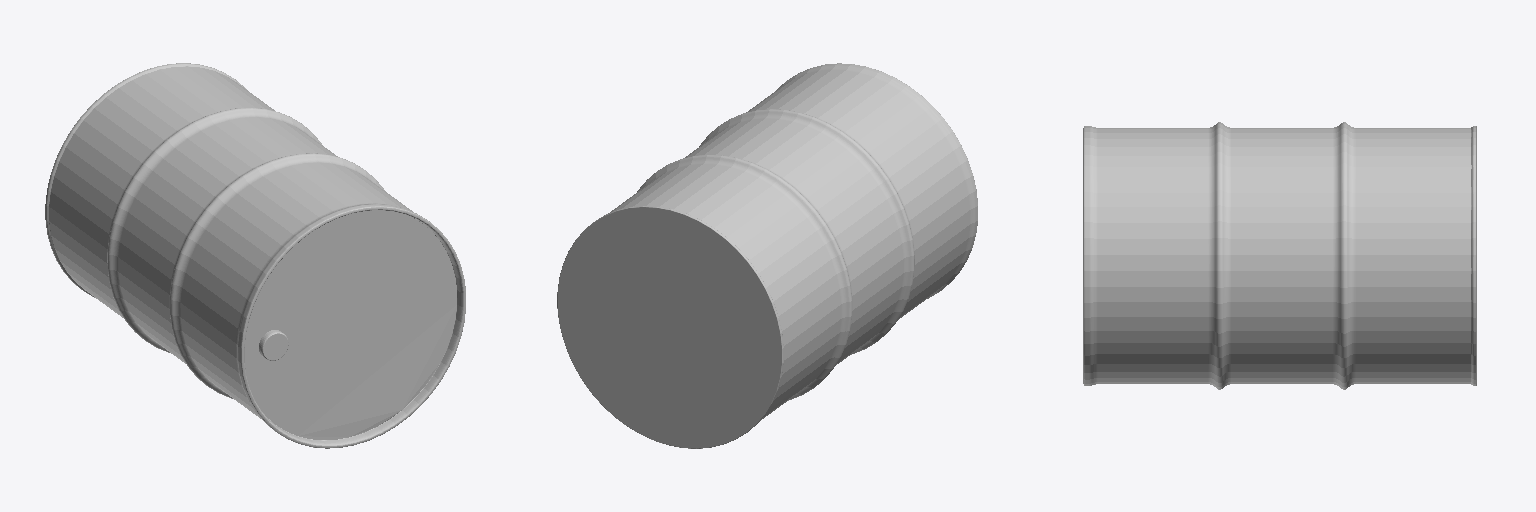
Rendered from OilBarrel.obj.
3 views of the same model, side by side, from view 1: azimuth 30°, elevation 25°; view 2: azimuth 150°, elevation 25°; view 3: azimuth 270°, elevation 25° (orthographic).
Parts seen in each view (by area): view 1: Oil_drum; view 2: Oil_drum; view 3: Oil_drum.
Boxes of the visible parts, box(x1,y1,x2,y2) form: Oil_drum: box(45, 63, 465, 448); Oil_drum: box(557, 63, 977, 448); Oil_drum: box(1083, 122, 1476, 389).
Bounding box in the file's own units: 11.9 × 11.92 × 17.49.